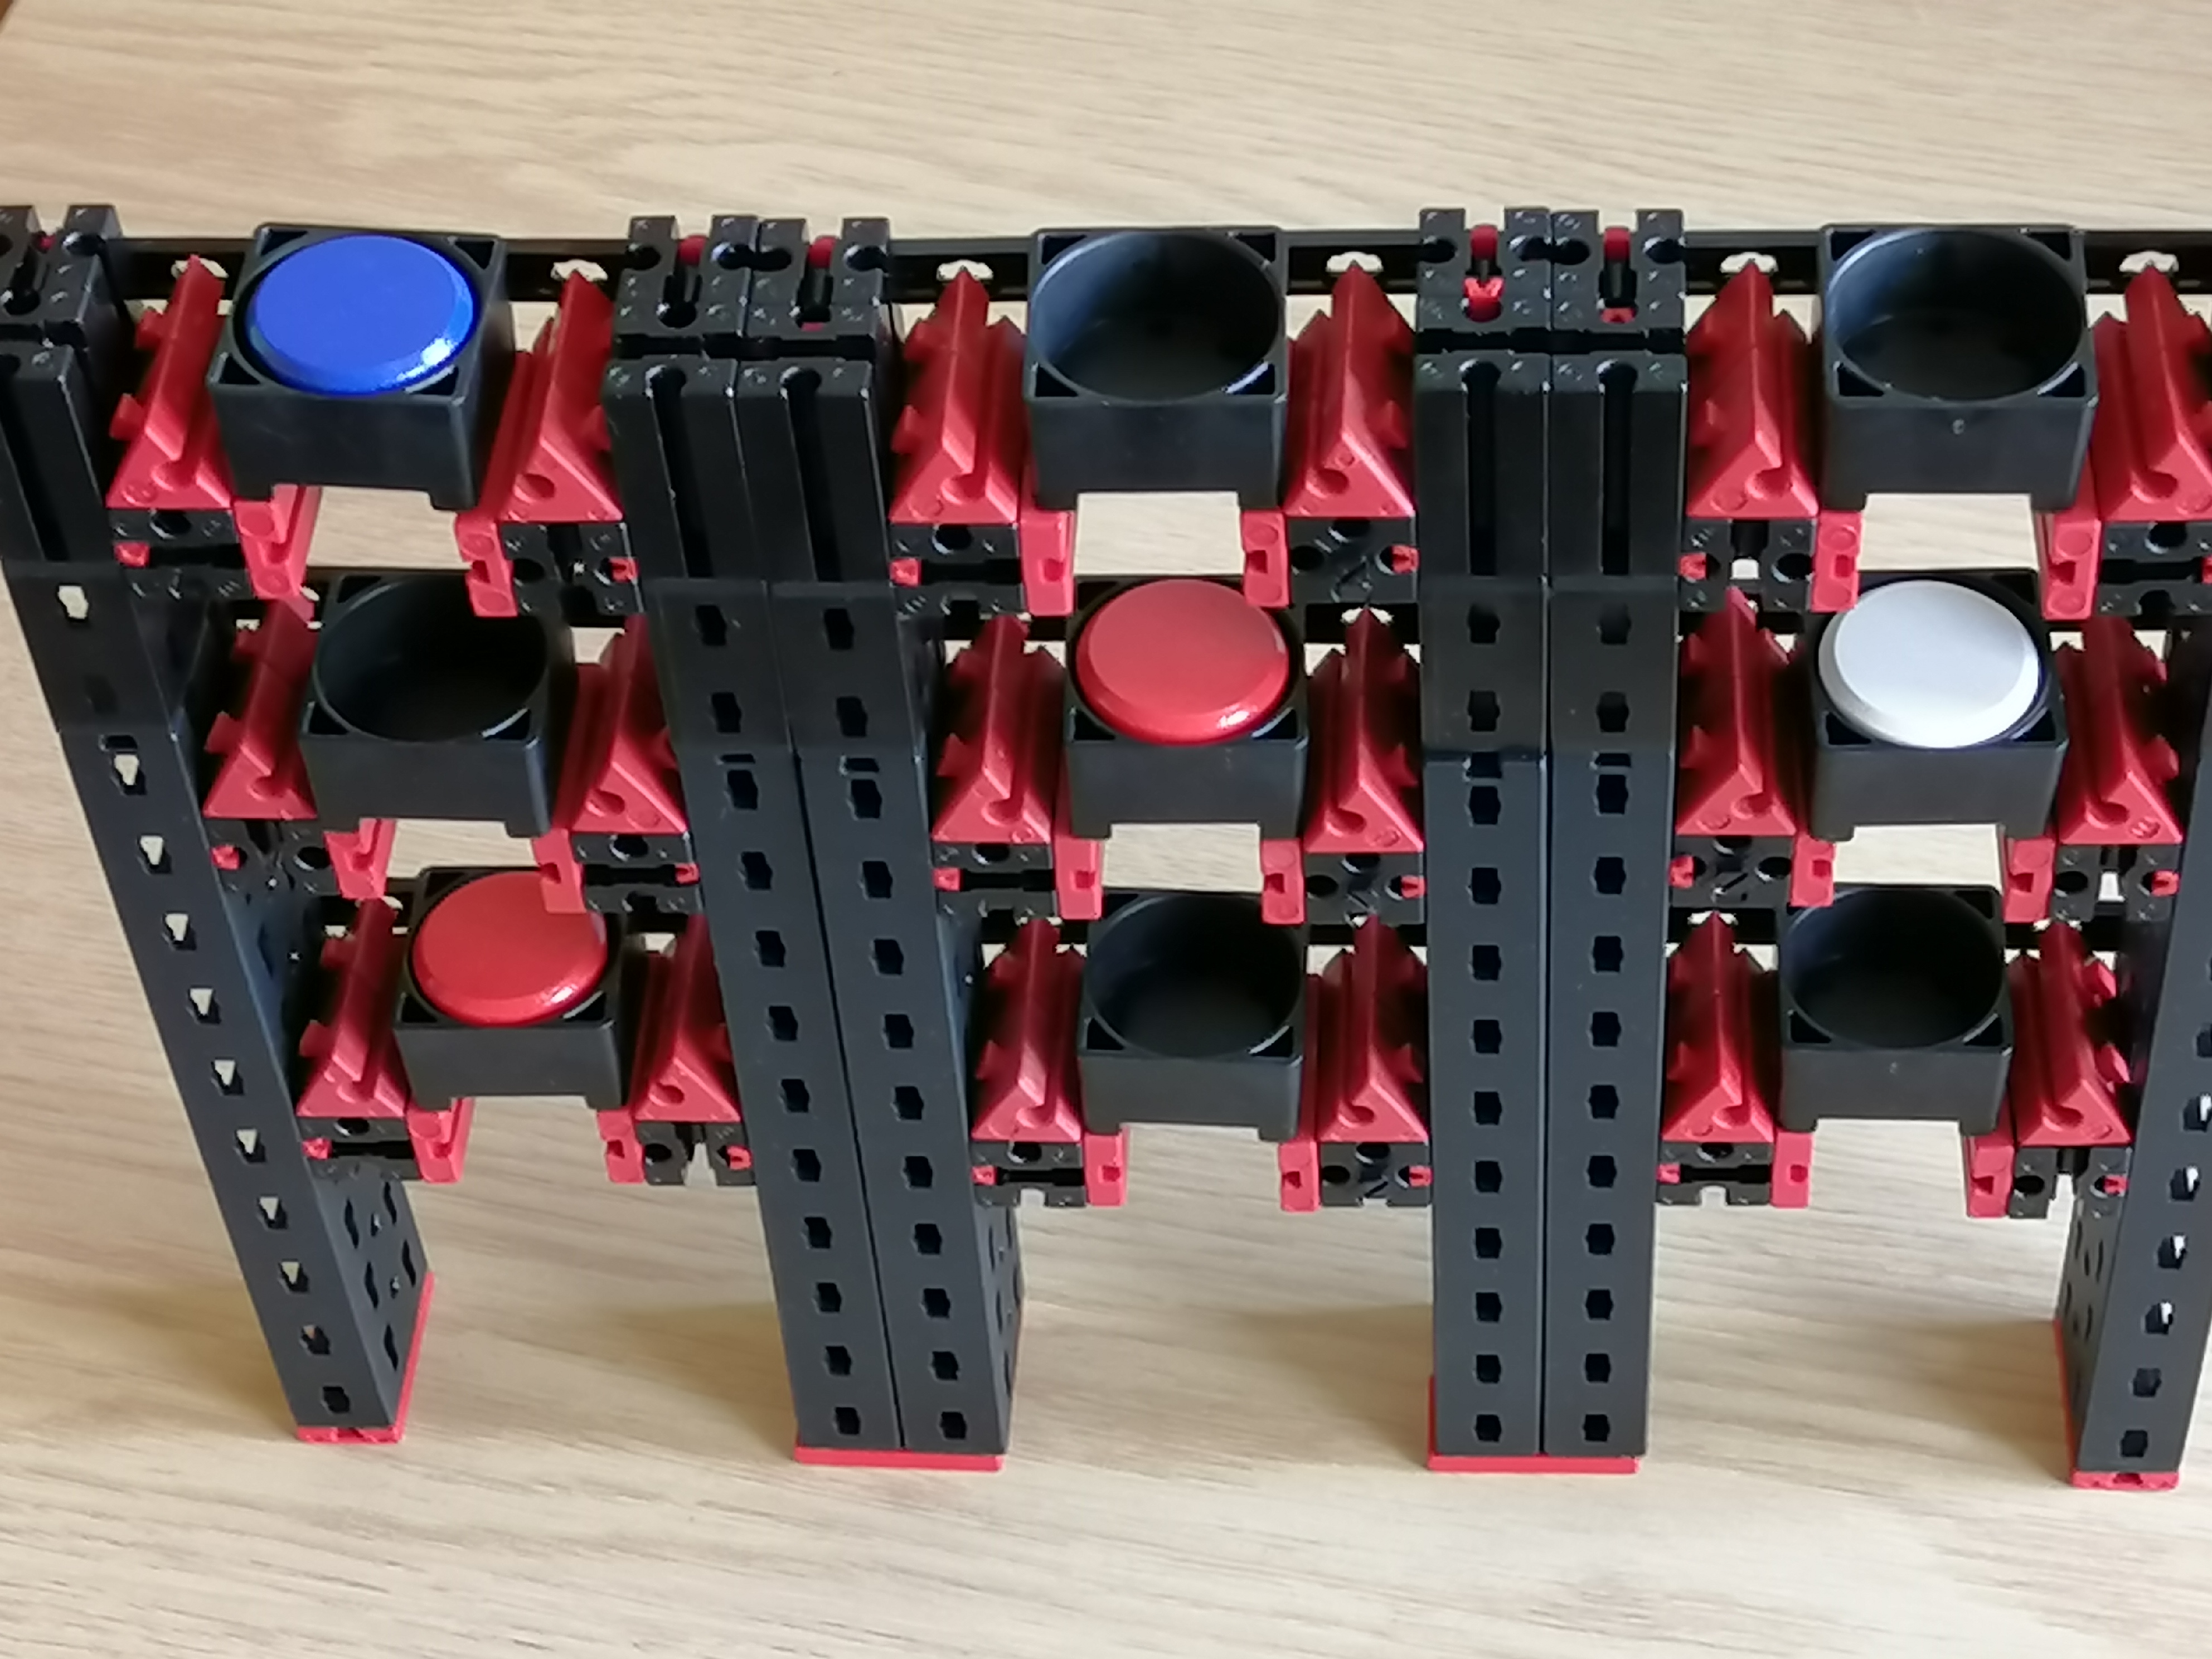Behaelter: (1813, 221, 2083, 504), (237, 221, 498, 495), (1033, 234, 1282, 497), (1796, 620, 2062, 819), (300, 619, 578, 807), (1057, 624, 1313, 821), (1082, 920, 1313, 1136), (387, 918, 641, 1101), (1773, 922, 2012, 1112)
WerkStueck: (254, 239, 465, 385), (1827, 606, 2036, 734), (1078, 608, 1287, 734), (406, 913, 624, 1021)
